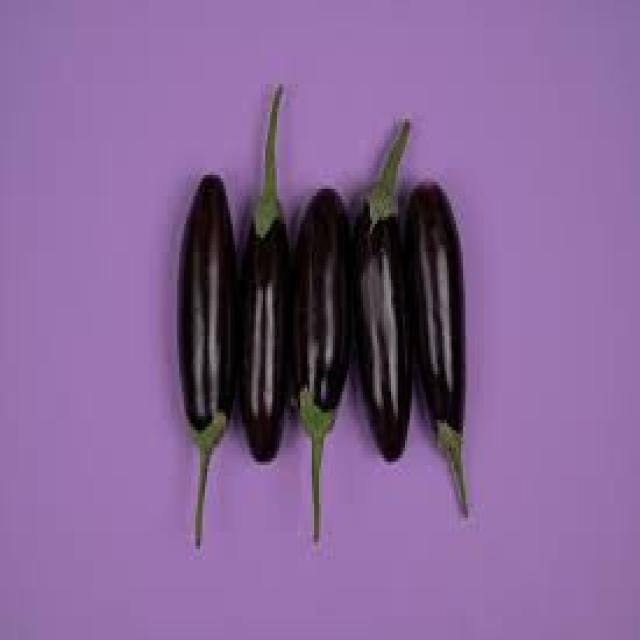eggplant: (398, 169, 489, 509), (281, 183, 364, 502), (155, 146, 228, 498), (356, 152, 426, 486), (237, 149, 304, 496)
